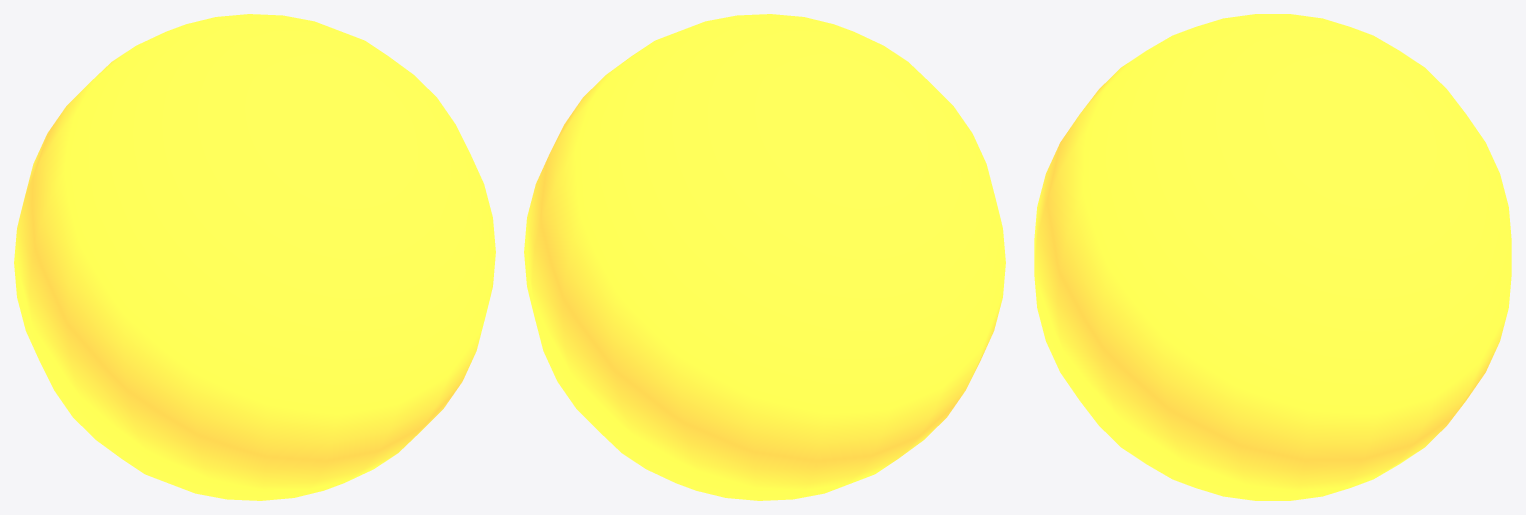
File: P Sun.fbx
3 renders of one model, left to right at view 1: azimuth 30°, elevation 25°; view 2: azimuth 150°, elevation 25°; view 3: azimuth 270°, elevation 25°, orthographic.
Visible parts, largest first — view 1: pSphere6; view 2: pSphere6; view 3: pSphere6.
Boxes of the visible parts, bbox=[...] form: pSphere6: bbox=[14, 14, 495, 500]; pSphere6: bbox=[524, 14, 1005, 500]; pSphere6: bbox=[1034, 14, 1511, 500].
Size of the model in its own units: 3.99 by 4.07 by 3.99.
